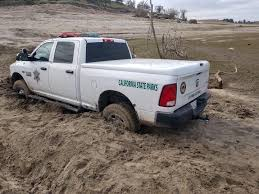Vehicle: (8, 30, 213, 127)
